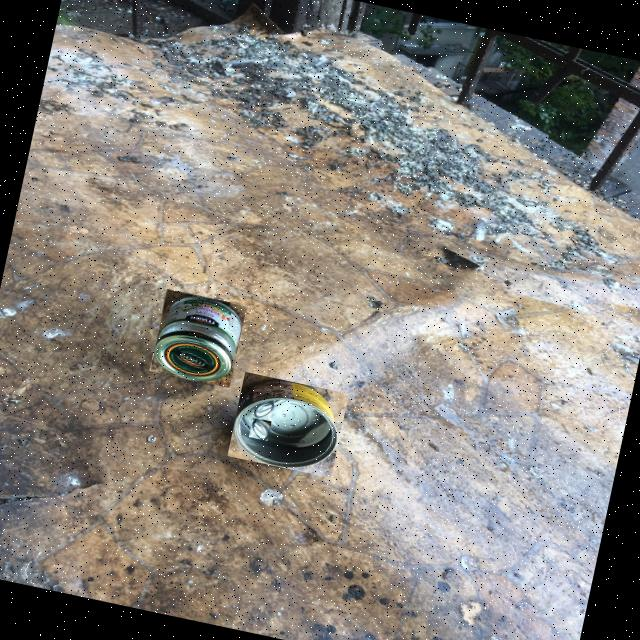Food Can: (235, 381, 339, 468)
Glass jar: (155, 298, 242, 382)
Metal lid: (163, 297, 241, 345)
Pop tab: (252, 419, 269, 441), (255, 421, 268, 436)
